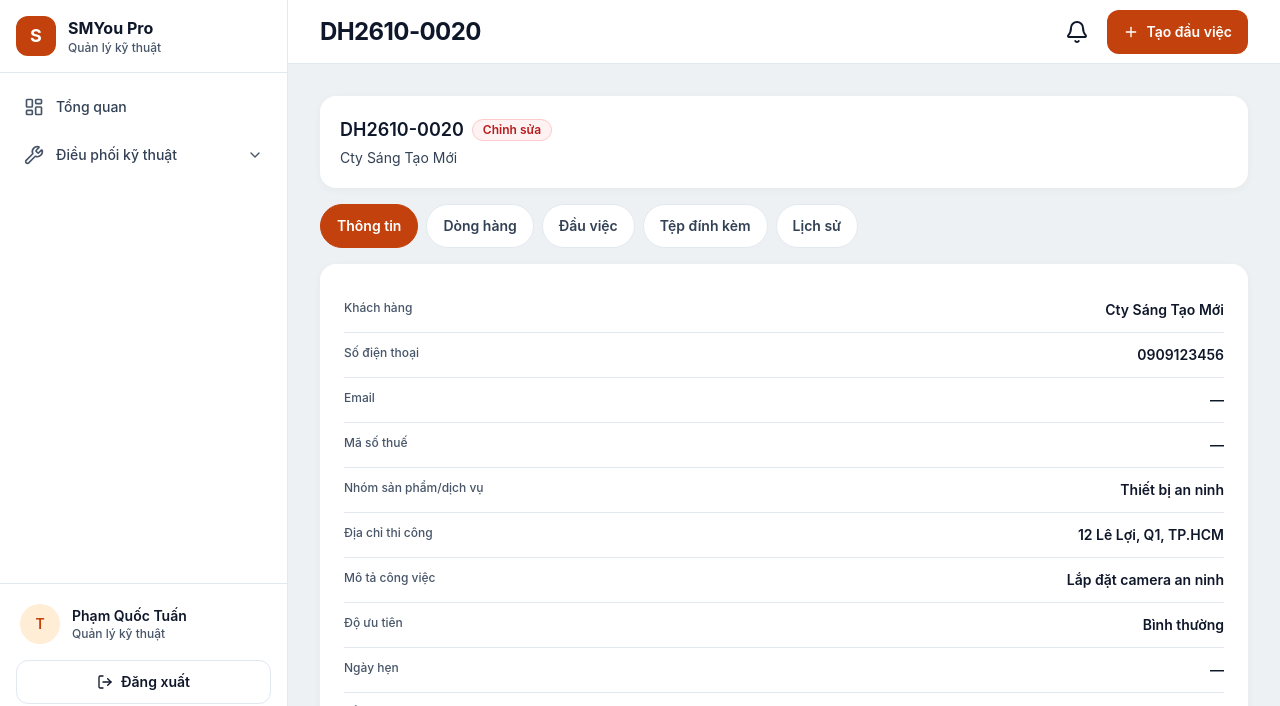
Test case: Mở lại đầu việc (M6-03b) › AC-DSP-124 STALE_VERSION ở ReopenTaskSheet → banner đỏ + nút Tải lại
The width and height of the screenshot is (1280, 706).
Check: the heading "DH2610-0020" is shown, box [320,16,481,48]
Step 1. Click the tab "Đầu việc" → (588, 226), box [542,204,635,248]
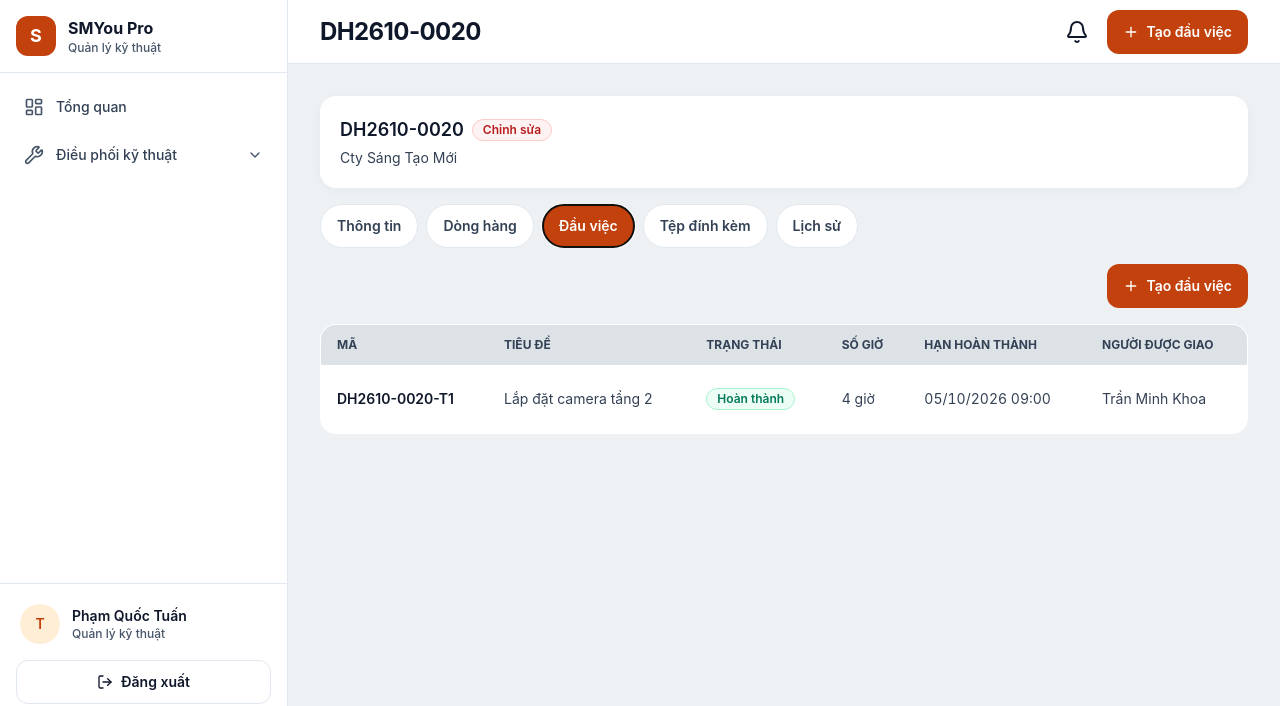
Step 2. Click the text "Lắp đặt camera tầng 2" → (589, 399), box [488,365,690,434]
(page scrolled)
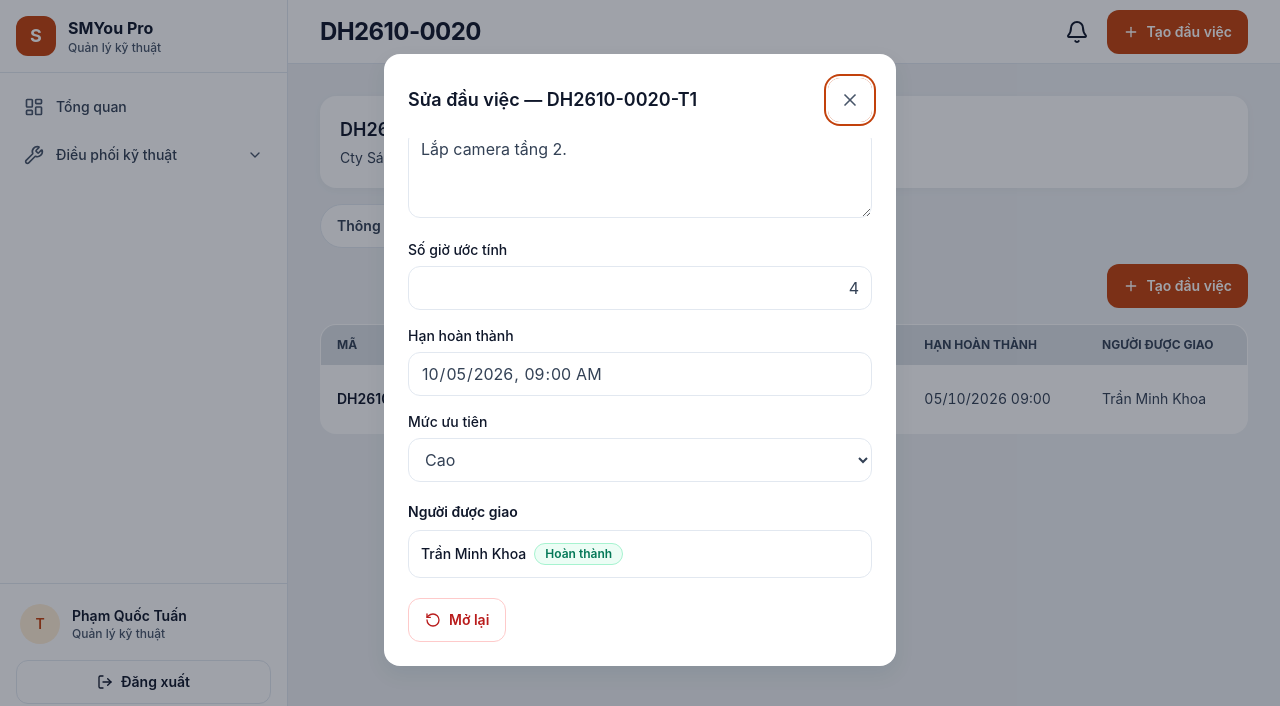
Step 3. Click the button "Mở lại" → (457, 620), box [408,598,506,642]
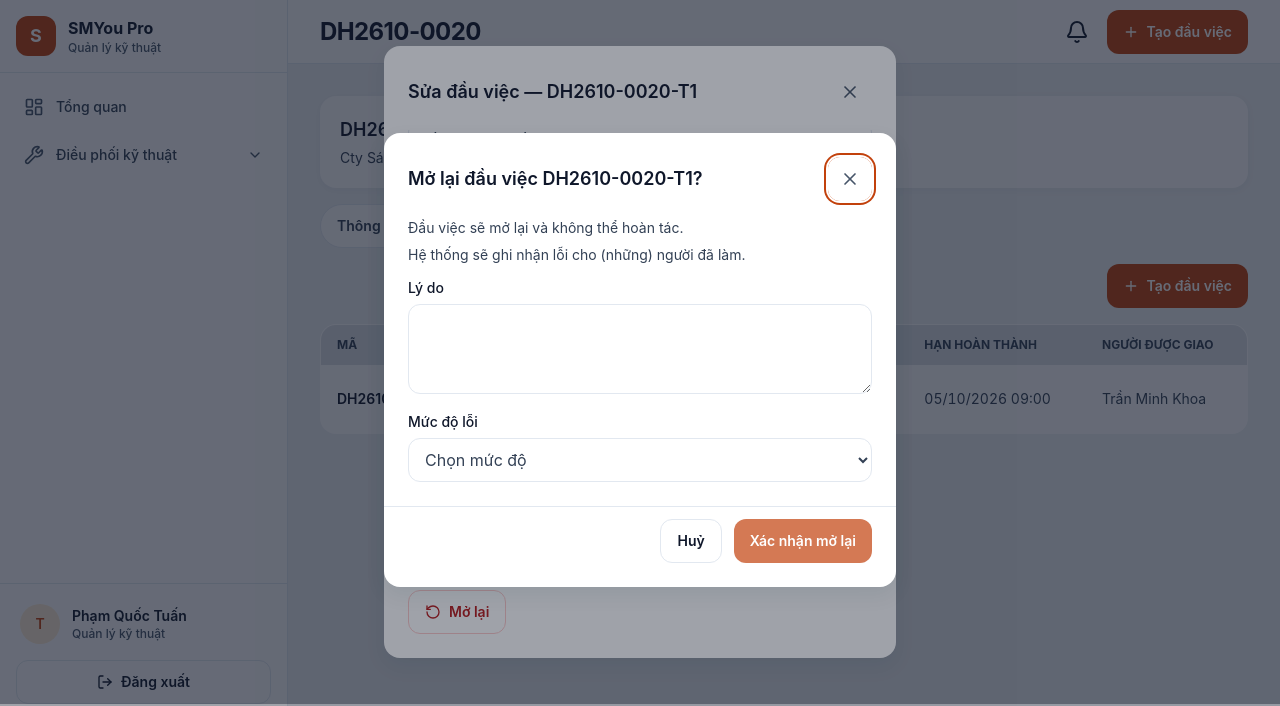
Step 4. Type "Lắp sai vị trí camera" into the text box labelled "Lý do" → (640, 349), box [408,304,872,394]
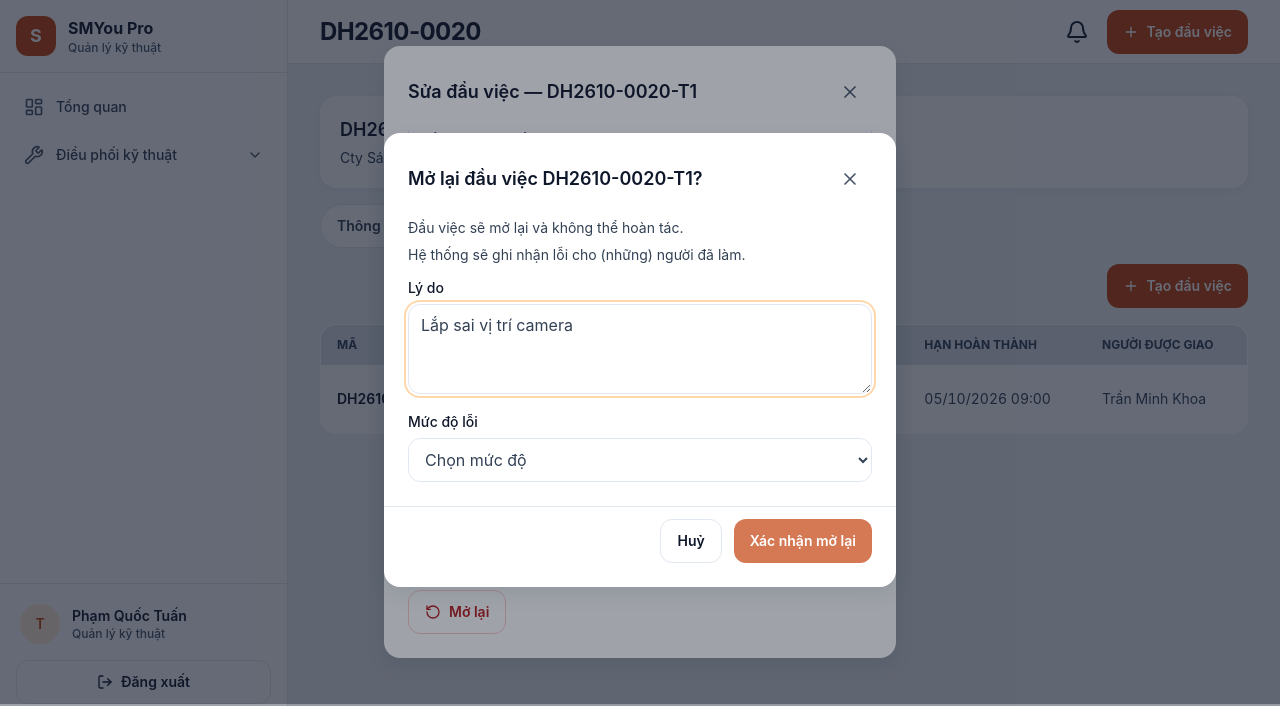
Step 5. Select "Nhẹ" in the dropdown labelled "Mức độ lỗi" → (640, 460), box [408,438,872,482]
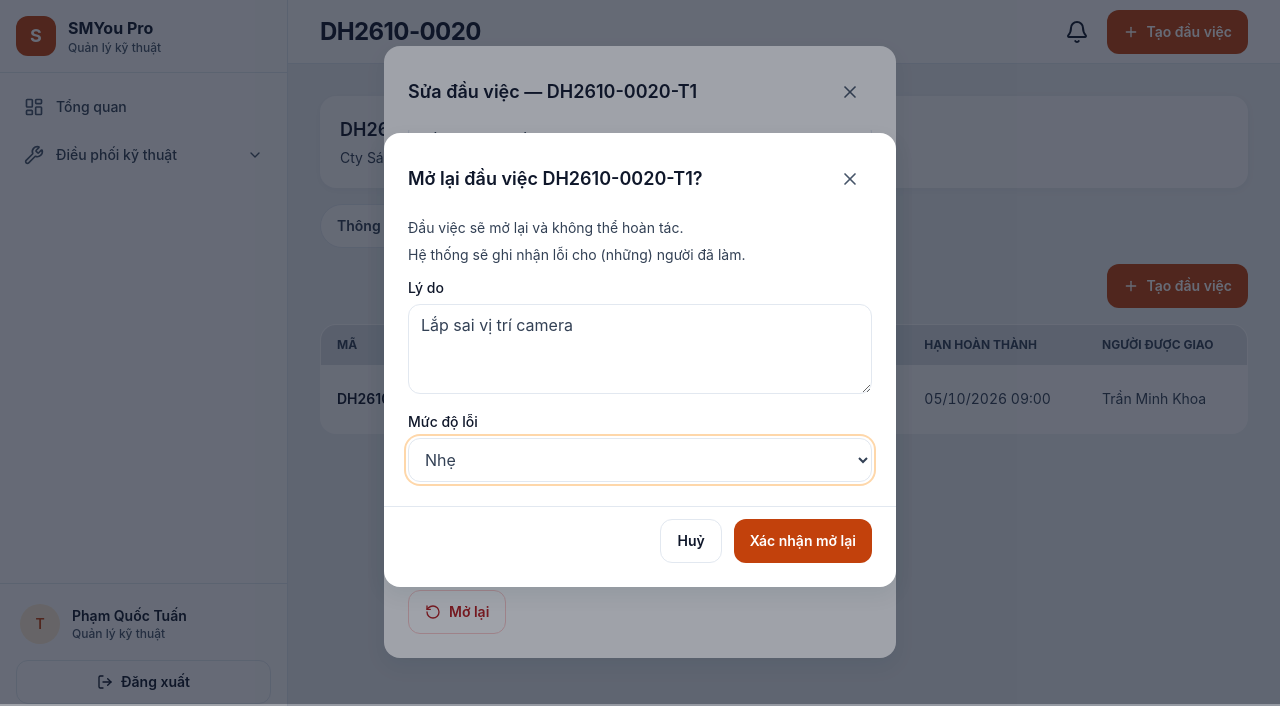
Step 6. Click the button "Xác nhận mở lại" → (803, 541), box [734,519,872,563]
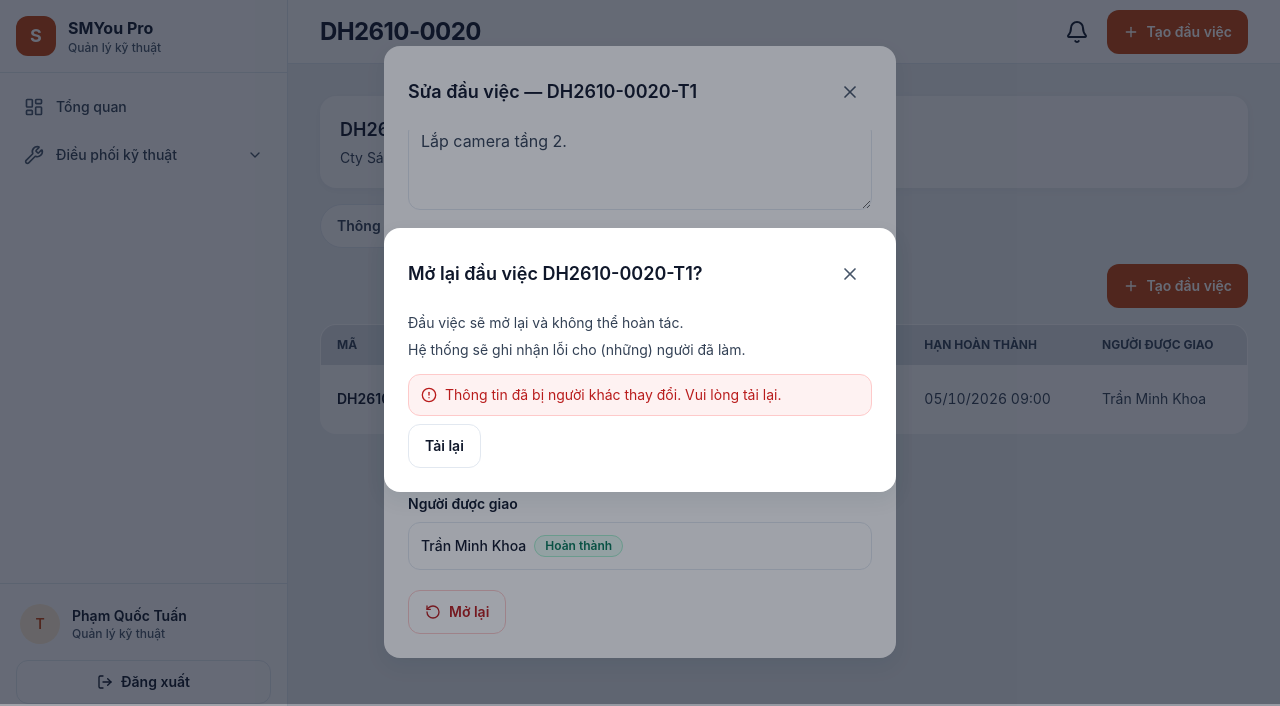
Check: the text "Thông tin đã bị người khác thay đổi. Vui lòng tải lại." is shown, box [445,385,782,405]
Check: the button "Tải lại" is shown, box [408,424,481,468]
